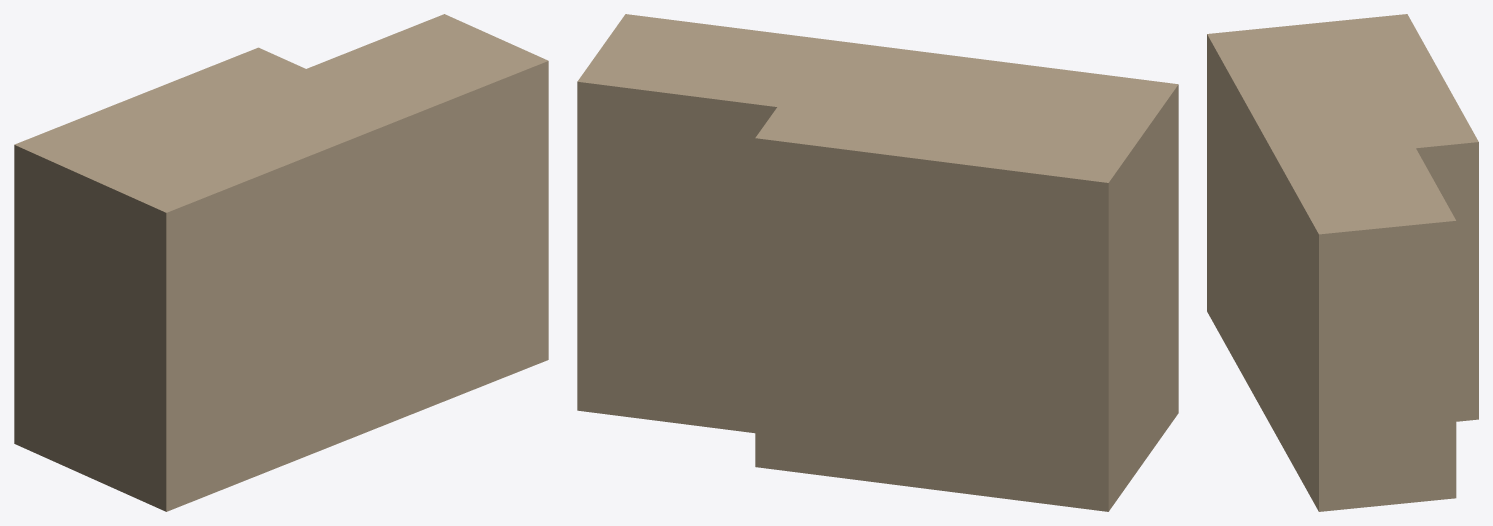
The model's file is bld_99872069.dae.
3 views of the same model, side by side, from view 1: azimuth 30°, elevation 25°; view 2: azimuth 150°, elevation 25°; view 3: azimuth 270°, elevation 25° (orthographic). The views are drawn at different scales.
Parts seen in each view (by area): view 1: bld_99872069; view 2: bld_99872069; view 3: bld_99872069.
Boxes of the visible parts, left/top/right/bottom form: bld_99872069: left=14, top=14, right=548, bottom=511; bld_99872069: left=577, top=14, right=1178, bottom=511; bld_99872069: left=1207, top=14, right=1478, bottom=511.
Bounding box in the file's own units: 13.63 × 7.1 × 8.
